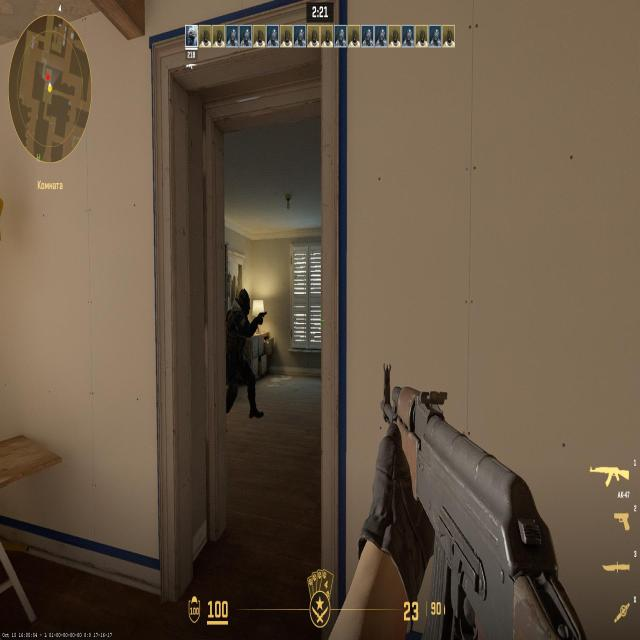CT: (232, 290, 249, 388)
CT_heat: (234, 293, 248, 310)
